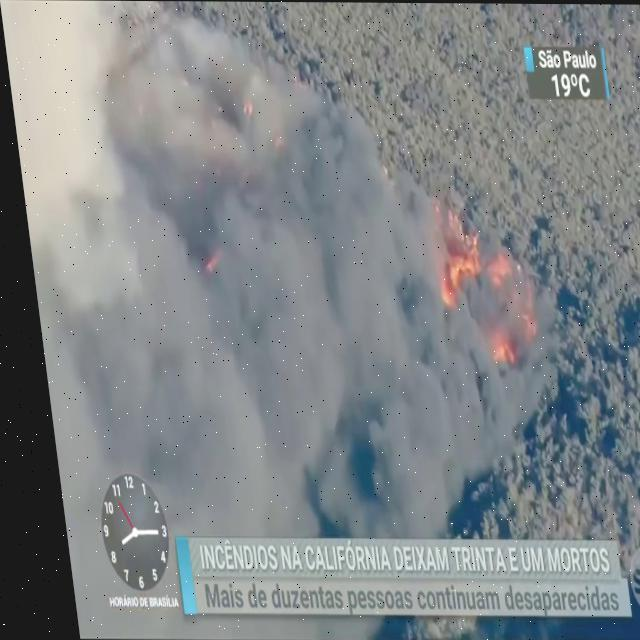Fire: (424, 204, 478, 304), (479, 326, 506, 361), (480, 250, 505, 284)
